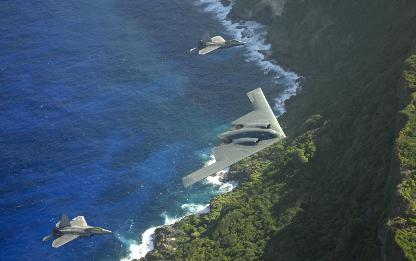B1: (182, 87, 286, 188)
F18: (42, 214, 112, 248), (189, 31, 247, 54)
